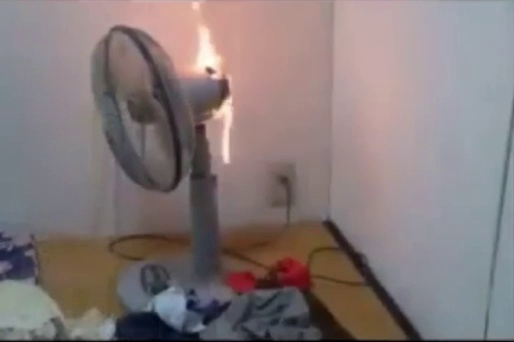fire: (185, 15, 225, 76)
